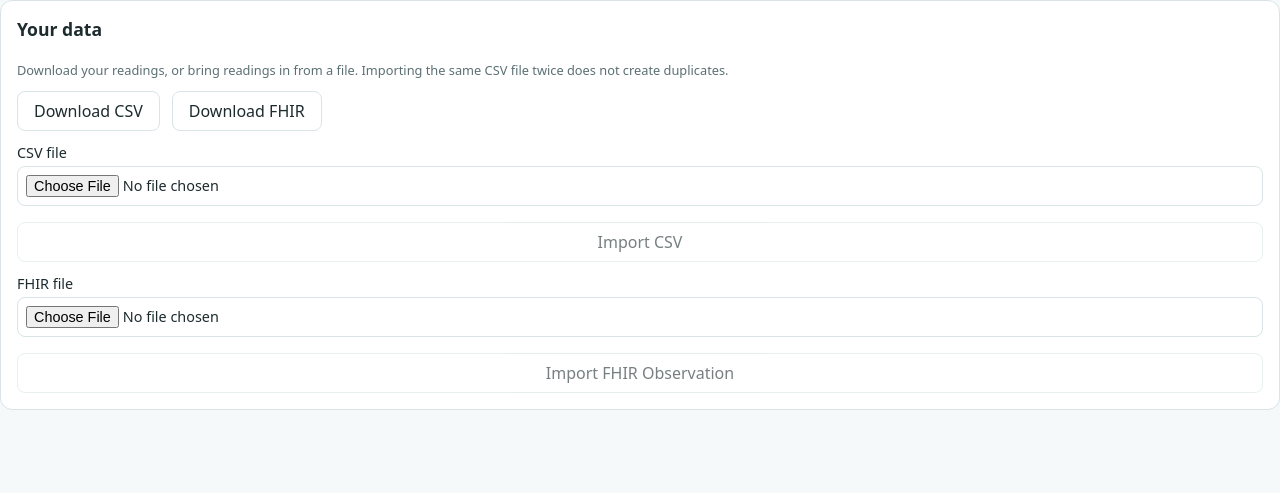
Test: DataToolsPanel downloads › downloads the FHIR export
Click the button "Download FHIR".
click(247, 111)  # box 172,91 -> 322,131
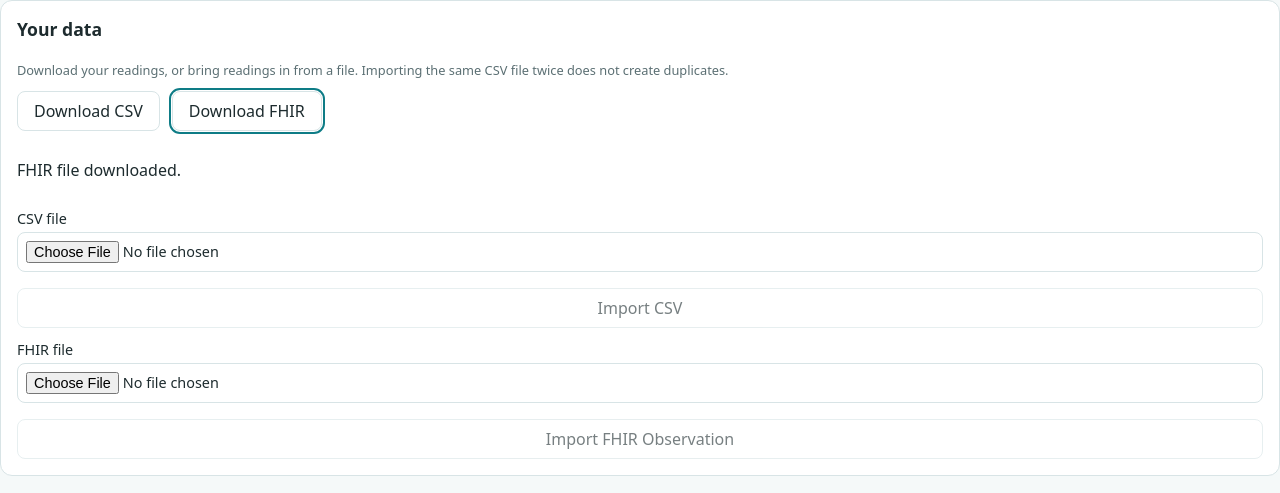
Check: the message "FHIR file downloaded." is shown, box 17,159 -> 181,181
